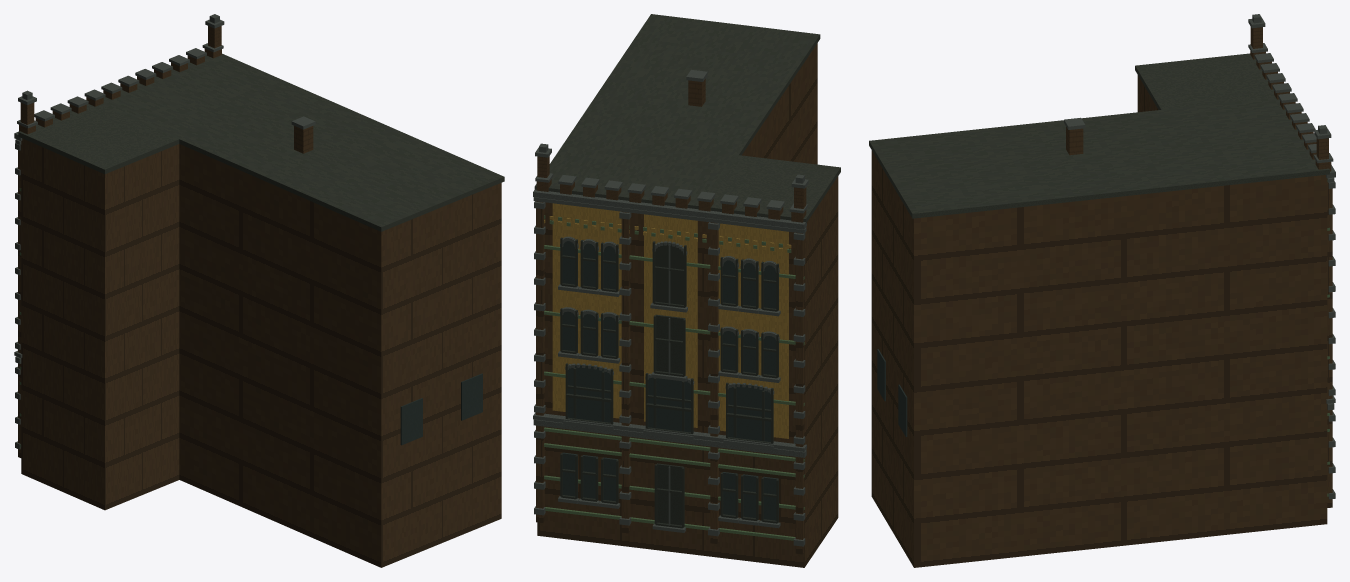
The picture shows the model from 3 angles, left to right: view 1: azimuth 30°, elevation 25°; view 2: azimuth 150°, elevation 25°; view 3: azimuth 270°, elevation 25°; orthographic projection. The views are drawn at different scales.
Parts seen in each view (by area): view 1: schaedtler-houttuin35-0, schaedtler-houttuin35-1, schaedtler-houttuin35-6, schaedtler-houttuin35-2; view 2: schaedtler-houttuin35-0, schaedtler-houttuin35-1, schaedtler-houttuin35-6, schaedtler-houttuin35-4, schaedtler-houttuin35-3, schaedtler-houttuin35-2, schaedtler-houttuin35-5; view 3: schaedtler-houttuin35-0, schaedtler-houttuin35-1, schaedtler-houttuin35-6, schaedtler-houttuin35-2.
Boxes of the visible parts, x1,y1,x2,y2 form: schaedtler-houttuin35-0: [18, 26, 501, 567]; schaedtler-houttuin35-1: [18, 53, 504, 231]; schaedtler-houttuin35-6: [14, 14, 315, 449]; schaedtler-houttuin35-2: [400, 373, 482, 445]; schaedtler-houttuin35-0: [536, 43, 838, 567]; schaedtler-houttuin35-1: [534, 14, 840, 223]; schaedtler-houttuin35-6: [533, 69, 808, 546]; schaedtler-houttuin35-4: [544, 203, 791, 438]; schaedtler-houttuin35-3: [560, 237, 778, 528]; schaedtler-houttuin35-2: [562, 241, 778, 520]; schaedtler-houttuin35-5: [544, 215, 804, 540]; schaedtler-houttuin35-0: [871, 27, 1332, 567]; schaedtler-houttuin35-1: [869, 53, 1329, 218]; schaedtler-houttuin35-6: [1064, 14, 1335, 499]; schaedtler-houttuin35-2: [877, 349, 907, 436].
Bounding box in the file's own units: 17.47 × 19.86 × 21.25.
Materials: 7 (7 with a texture image).
